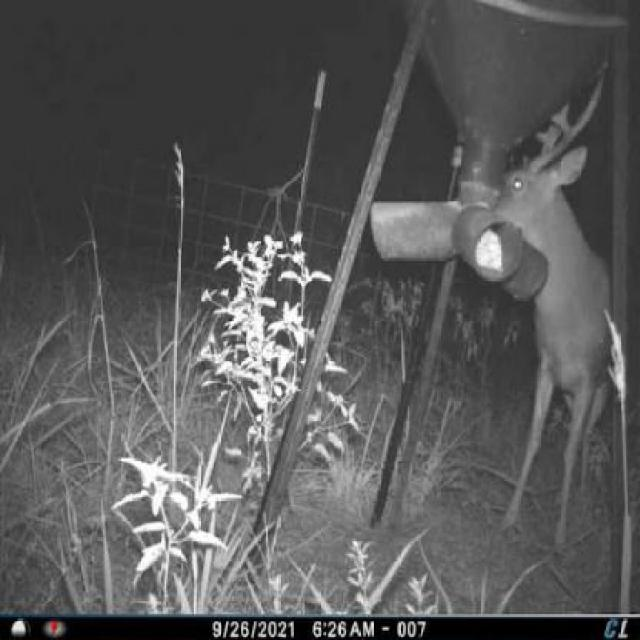Deer: (488, 58, 640, 558)
